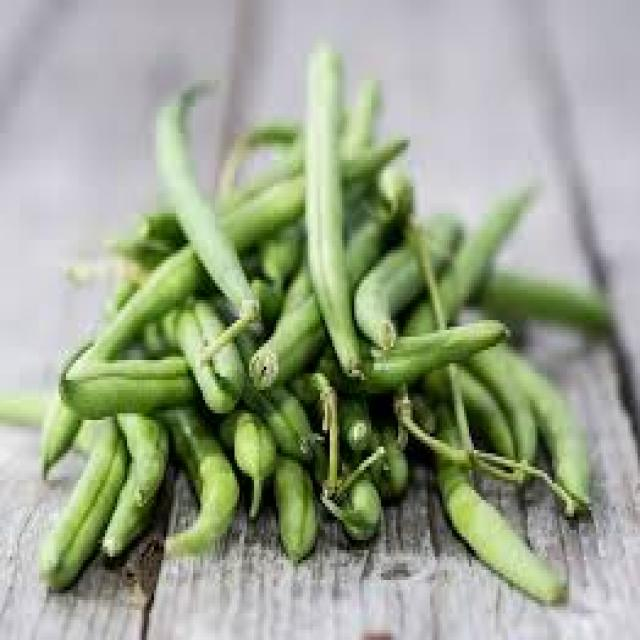organic waste: (37, 137, 406, 470), (244, 177, 401, 383), (420, 390, 560, 603), (146, 80, 259, 323), (0, 390, 127, 590), (396, 170, 532, 333), (244, 230, 386, 383), (301, 27, 359, 373), (496, 343, 591, 517), (322, 313, 503, 387), (352, 220, 452, 353), (281, 183, 364, 327), (159, 406, 237, 556), (425, 356, 511, 486), (142, 303, 239, 407), (100, 403, 164, 557), (469, 344, 535, 484), (466, 267, 610, 330), (288, 74, 374, 174), (210, 120, 293, 223), (310, 414, 379, 534), (213, 400, 276, 523), (262, 453, 318, 560), (249, 380, 313, 460), (252, 233, 305, 317), (361, 407, 408, 493), (46, 250, 156, 280), (100, 220, 176, 263), (332, 386, 367, 446), (393, 383, 438, 427), (134, 206, 186, 236), (105, 284, 147, 314)
